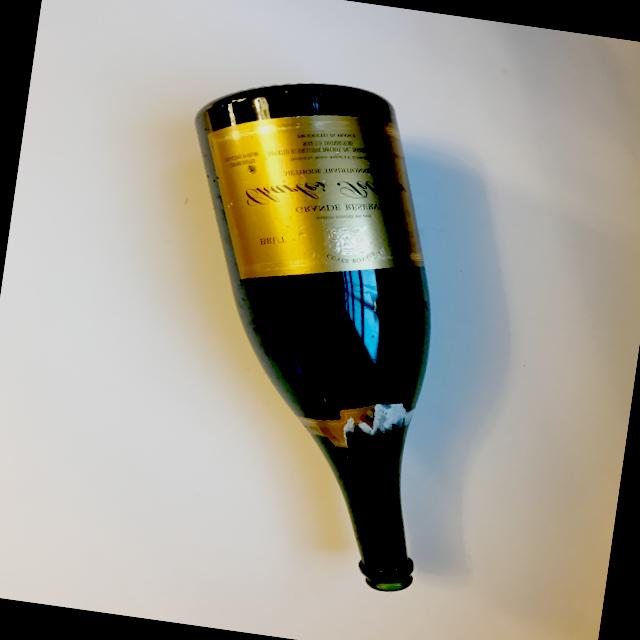Glass: (120, 54, 488, 601)
